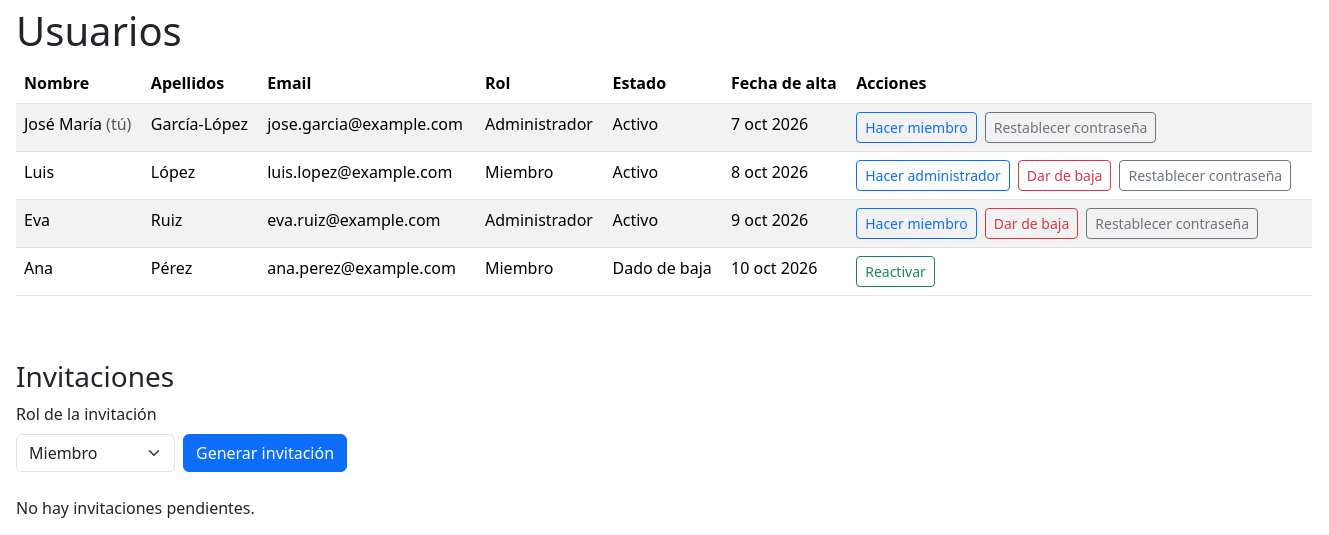
Test: UsersPage actions › changing the role and reactivating › sends the new role and replaces the row without asking for the list again
The width and height of the screenshot is (1329, 535).
Click the button "Hacer administrador" at (933, 176), box [856,160,1010,191]
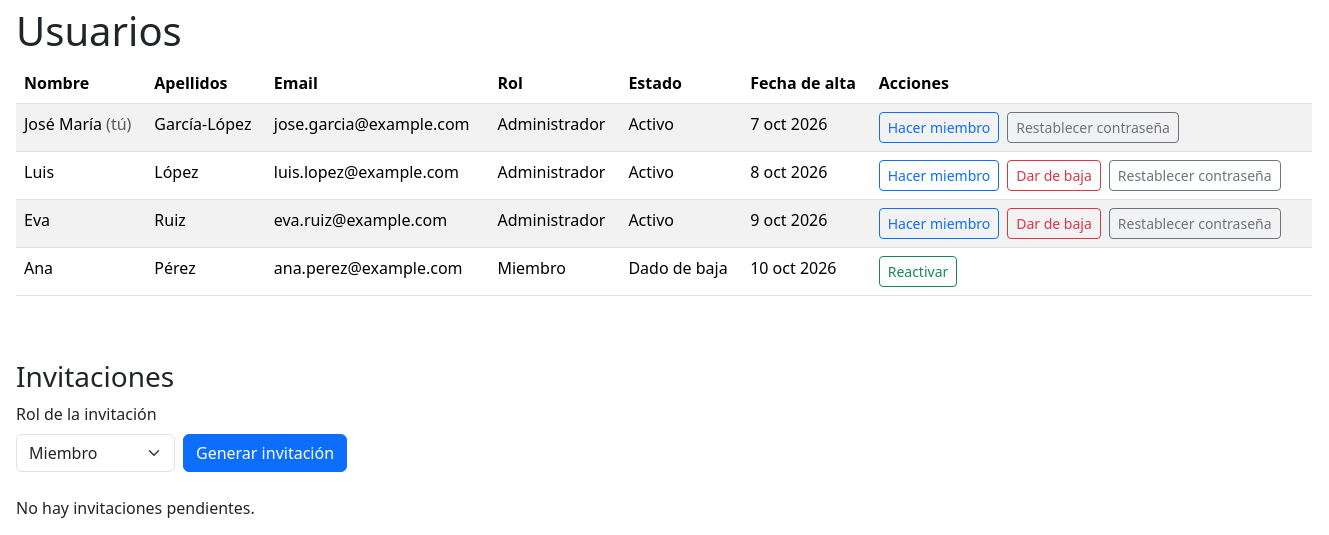
Expected: the text "luis.lopez@example.com" shows "Administrador", [497,161,605,183]
Now the button "Hacer miembro" in the row of "luis.lopez@example.com" is shown, box [879,160,999,191]
